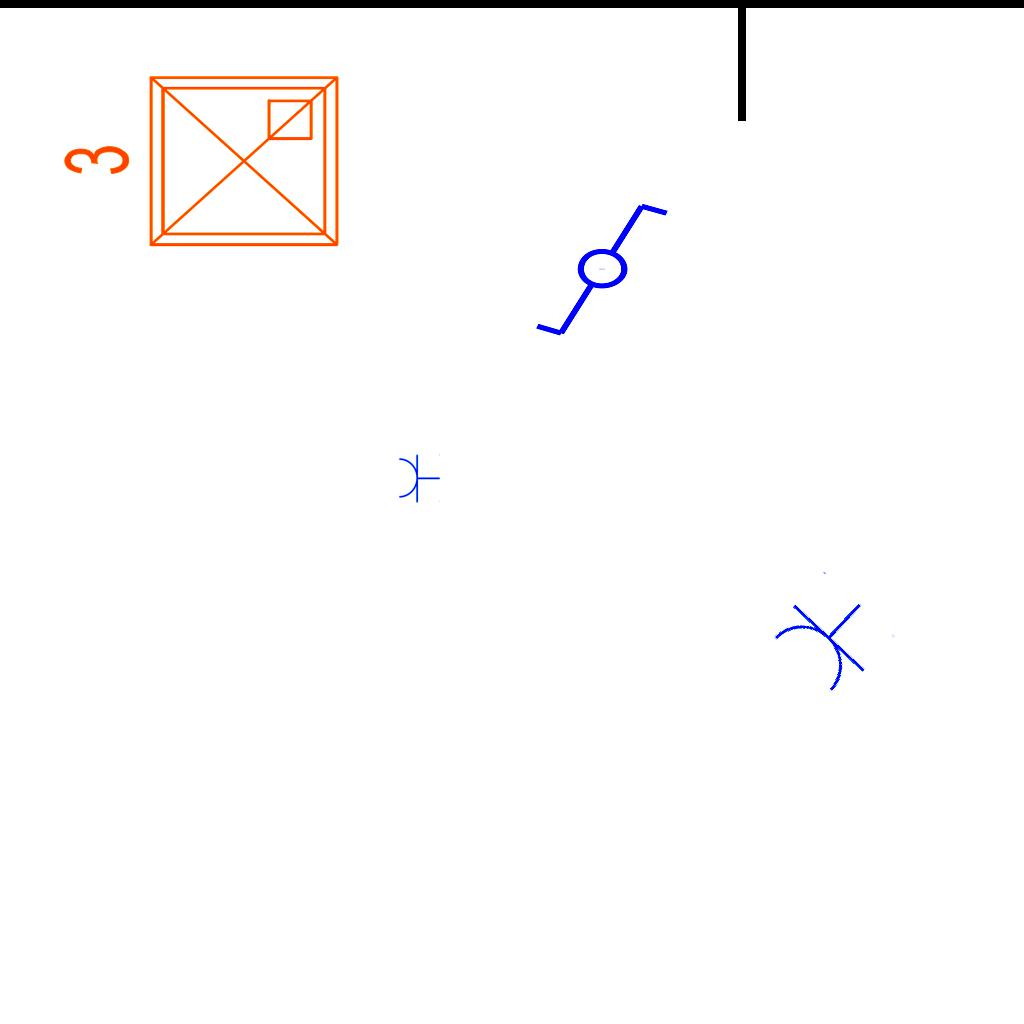Einbaudownlights_LED_Konferenzraeume: (53, 61, 353, 269)
Schukosteckdose_einfach: (763, 569, 897, 702), (397, 453, 440, 503)
Wechselschalter: (532, 199, 689, 343)
